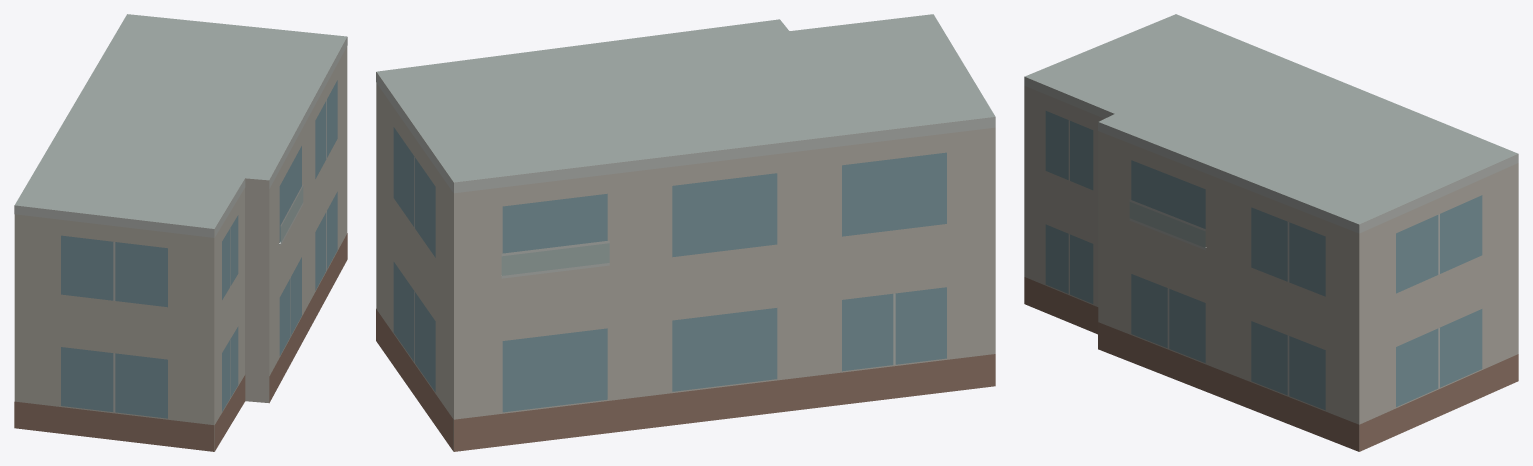
Rendered from survey-upis-32771737.glb.
3 views of the same model, side by side, from view 1: azimuth 30°, elevation 25°; view 2: azimuth 150°, elevation 25°; view 3: azimuth 270°, elevation 25° (orthographic). The views are drawn at different scales.
Visible parts, largest first — view 1: survey-upis-32771737.tmp; view 2: survey-upis-32771737.tmp; view 3: survey-upis-32771737.tmp.
Boxes of the visible parts, x1,y1,x2,y2 form: survey-upis-32771737.tmp: [14, 14, 347, 451]; survey-upis-32771737.tmp: [376, 14, 995, 451]; survey-upis-32771737.tmp: [1024, 14, 1518, 451].
Bounding box in the file's own units: 12.12 × 6.1 × 12.02.
